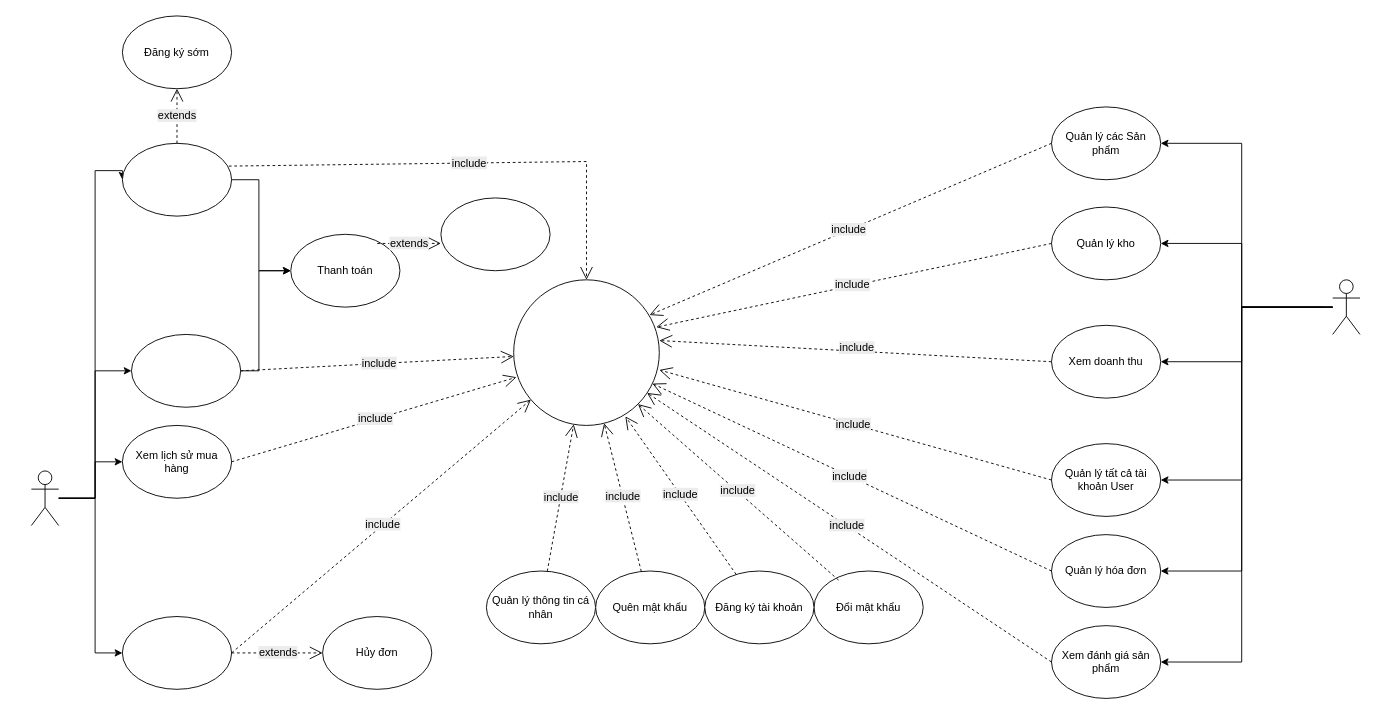
Image size: 1380x714. Some labels were removed from this diagram. The shapes that lost their labels are listed below. From the top down, each one's centre as x and y in pixels, then its label:
pixel 176 179: Xem sản phẩm
pixel 495 234: Đánh giá sản phẩm
pixel 1346 306: Quản lý
pixel 186 370: Giỏ hàng
pixel 586 352: Đăng nhập
pixel 44 498: Khách hàng
pixel 176 652: Theo dõi đơn hàng
